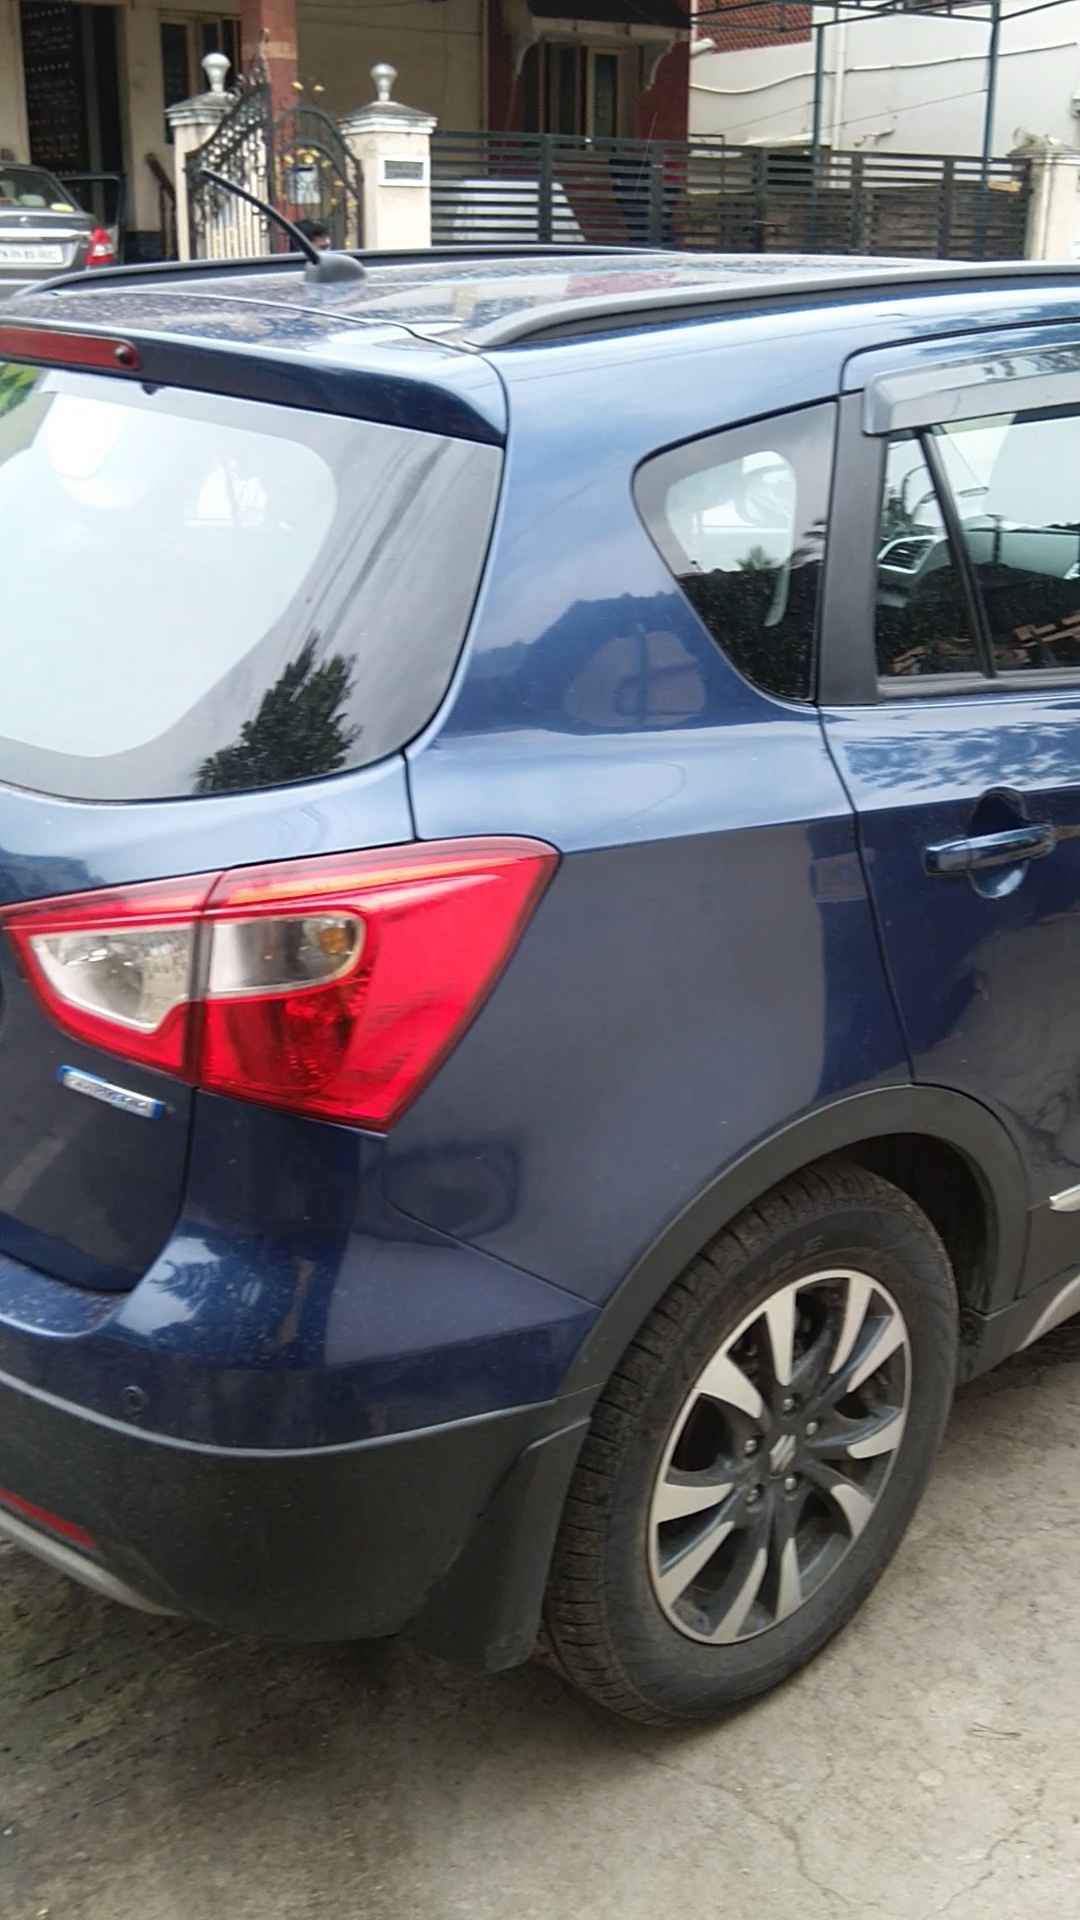alloy_wheel: (564, 1182, 978, 1716)
rear_camera: (99, 332, 141, 377)
shvs: (40, 1058, 191, 1135)
